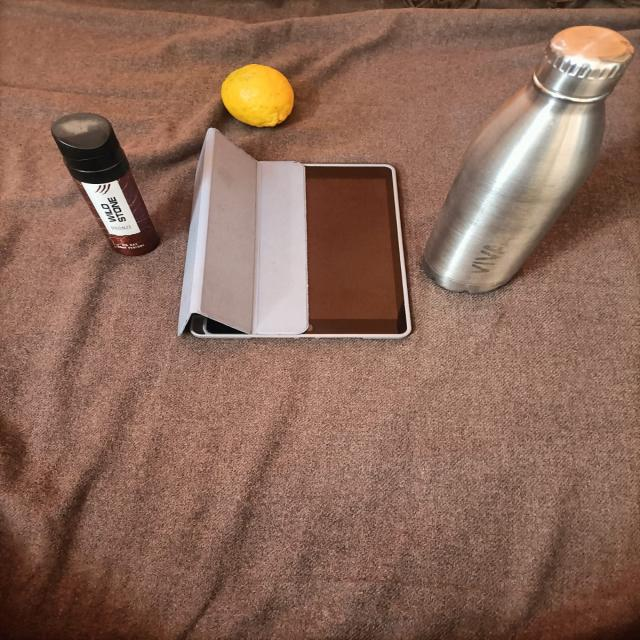bottle: (420, 15, 636, 310)
orange: (210, 55, 318, 132)
spray: (27, 104, 176, 284)
tablet: (183, 123, 415, 361)
